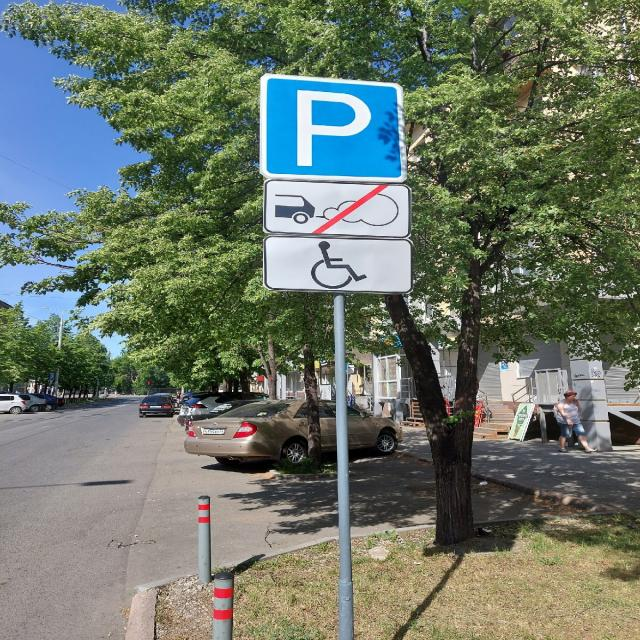parking: (252, 69, 415, 188)
